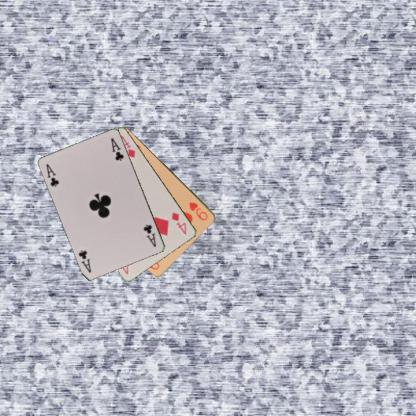4d: (169, 210, 189, 236)
9h: (187, 199, 209, 222)
Ac: (141, 222, 158, 248), (44, 162, 61, 188)
